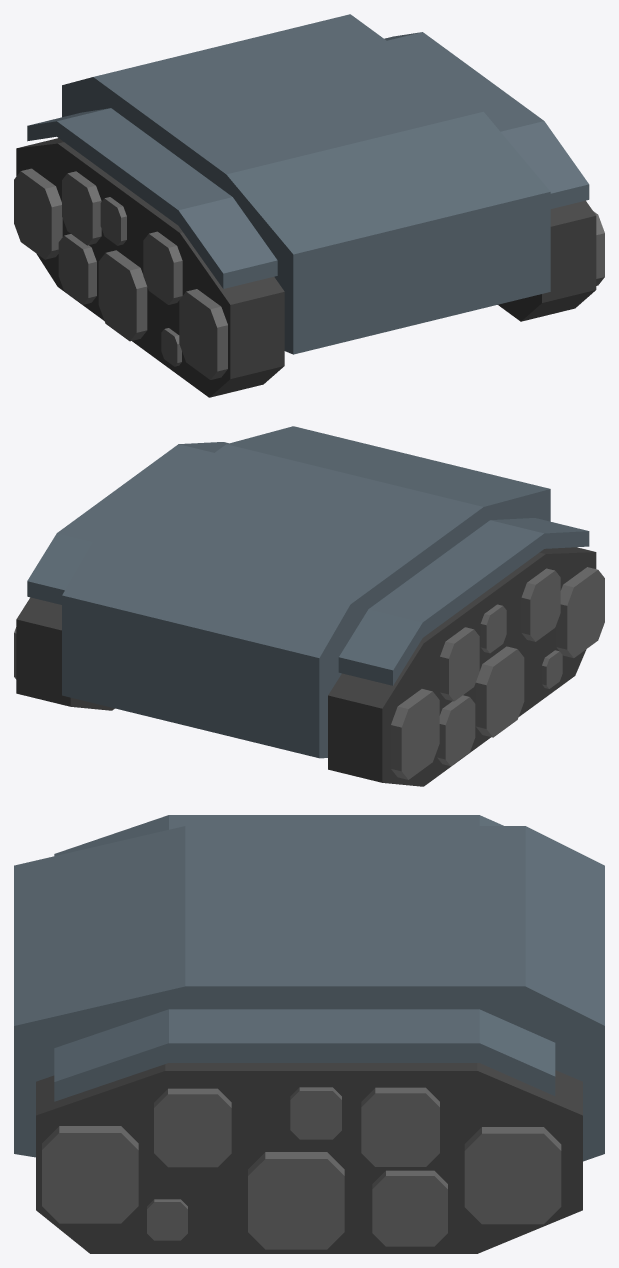
The model's file is Tank Base.fbx.
The picture shows the model from 3 angles, top to bottom: view 1: azimuth 30°, elevation 25°; view 2: azimuth 150°, elevation 25°; view 3: azimuth 270°, elevation 25°; orthographic projection. The views are drawn at different scales.
Visible parts, largest first — view 1: Tank_Base, tread, fender, fender1, tread1, gear, gear9, gear8, gear11, gear10, gear14, gear12 (+2 smaller); view 2: Tank_Base, tread, fender, fender1, tread1, gear, gear8, gear9, gear11, gear10, gear14, gear12 (+1 smaller); view 3: Tank_Base, tread1, fender1, gear21, gear20, gear22, gear18, gear19, gear15, fender, gear17, gear16.
Part boxes in pixels (x1,y1,x2,y2): Tank_Base: [62, 14, 550, 354]; tread: [16, 138, 284, 397]; fender: [27, 108, 277, 288]; fender1: [384, 32, 589, 208]; tread1: [498, 200, 596, 321]; gear: [98, 250, 147, 341]; gear9: [179, 289, 227, 379]; gear8: [14, 168, 62, 259]; gear11: [62, 171, 101, 245]; gear10: [143, 231, 182, 304]; gear14: [58, 234, 96, 304]; gear12: [100, 197, 126, 245]; Tank_Base: [62, 426, 550, 758]; tread: [328, 547, 596, 786]; fender: [338, 518, 589, 685]; fender1: [27, 442, 228, 604]; tread1: [16, 597, 114, 710]; gear: [475, 646, 524, 737]; gear8: [391, 689, 439, 779]; gear9: [556, 567, 604, 658]; gear11: [440, 627, 479, 701]; gear10: [521, 568, 560, 641]; gear14: [437, 695, 475, 765]; gear12: [480, 604, 506, 653]; Tank_Base: [14, 826, 604, 1161]; tread1: [36, 1063, 582, 1253]; fender1: [54, 1009, 555, 1101]; gear21: [464, 1127, 561, 1224]; gear20: [42, 1126, 138, 1223]; gear22: [248, 1152, 344, 1249]; gear18: [361, 1087, 439, 1166]; gear19: [154, 1088, 231, 1167]; gear15: [372, 1170, 447, 1246]; fender: [54, 815, 503, 856]; gear17: [290, 1087, 341, 1139]; gear16: [147, 1199, 187, 1240].
Size of the model in its own units: 0.9681 by 0.4362 by 1.
